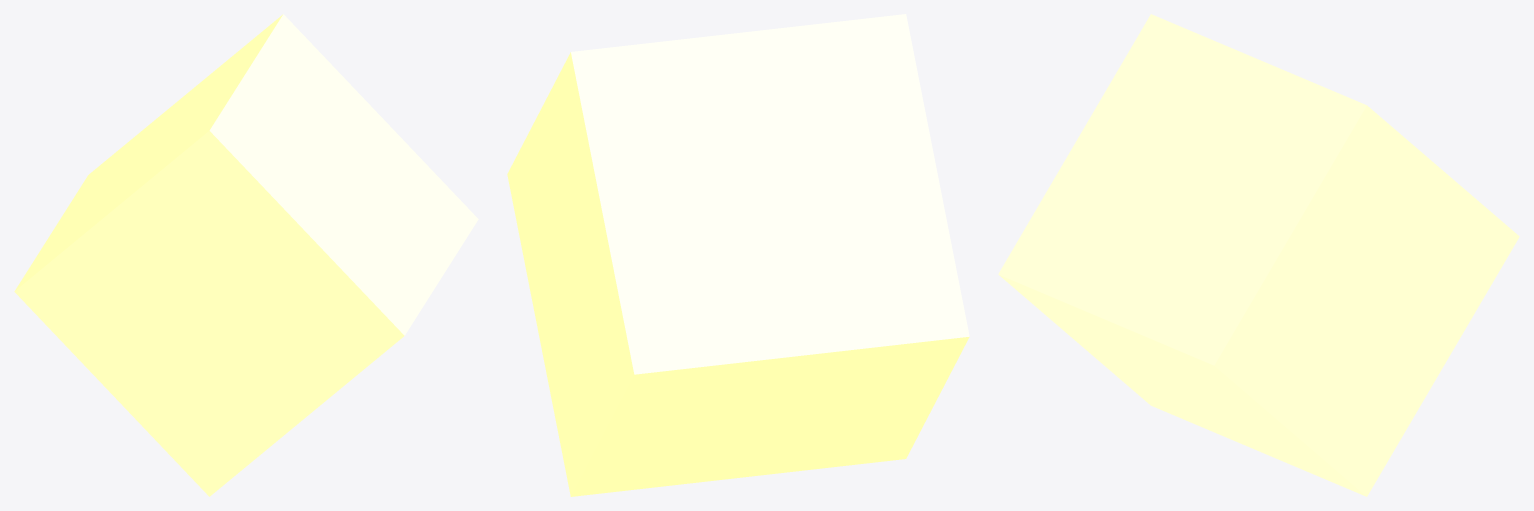
The model's file is pickup_weapon.glb.
The picture shows the model from 3 angles, left to right: view 1: azimuth 30°, elevation 25°; view 2: azimuth 150°, elevation 25°; view 3: azimuth 270°, elevation 25°; orthographic projection. The views are drawn at different scales.
Parts seen in each view (by area): view 1: weapon; view 2: weapon; view 3: weapon.
Part boxes in pixels (x1,y1,x2,y2): weapon: (14,14,478,496); weapon: (507,14,969,496); weapon: (998,14,1519,496).
Bounding box in the file's own units: 0.7511 × 0.6223 × 0.7511.
